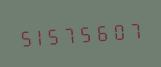five: (17, 24, 32, 50), (49, 22, 64, 48), (81, 19, 96, 45)
one: (33, 23, 48, 49)
seven: (129, 16, 144, 42), (65, 21, 80, 46)
six: (97, 18, 112, 44)
zero: (113, 17, 128, 43)
